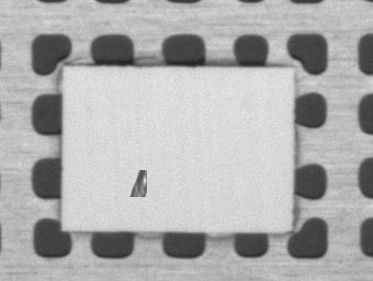DIE_INK: (129, 169, 147, 197)
